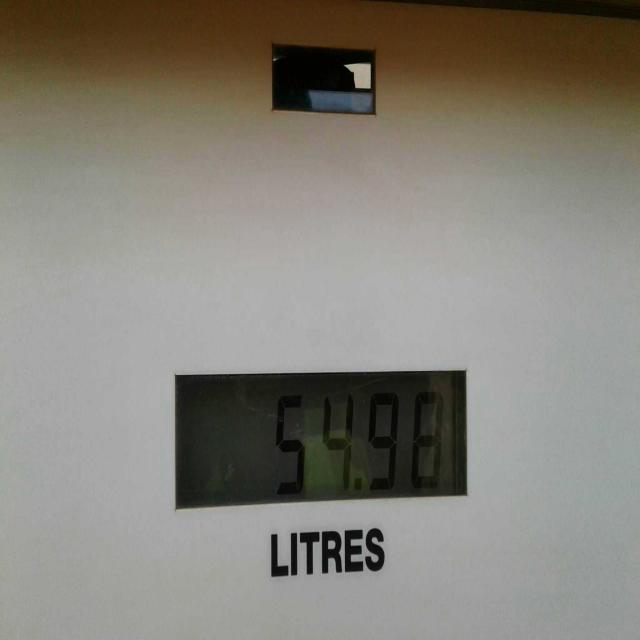.: (356, 478, 362, 496)
4: (322, 396, 351, 488)
5: (276, 394, 304, 496)
8: (411, 386, 442, 488)
9: (369, 396, 396, 494)
